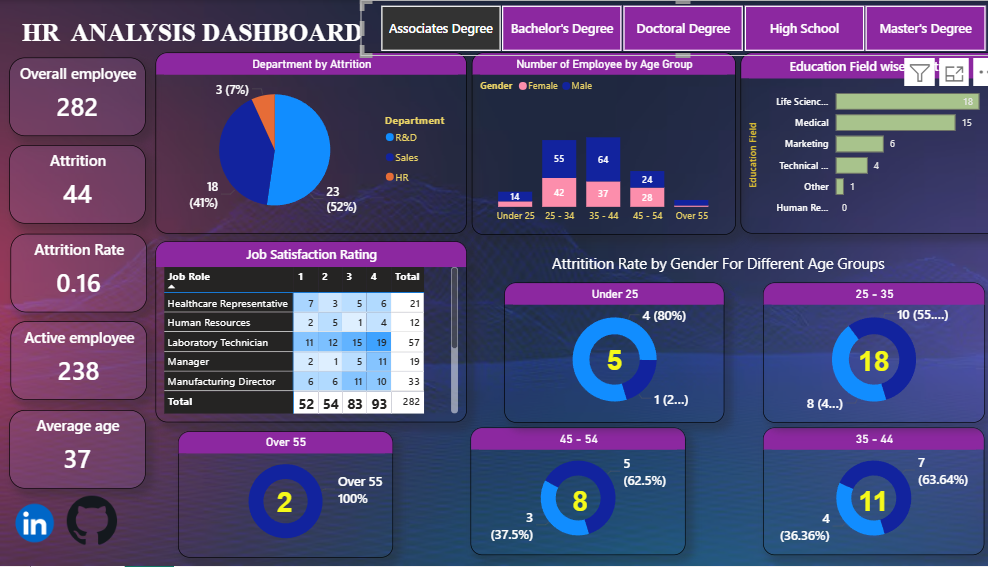

What the dashboard file says about the page in this screenshot:
{"tool":"powerbi","page":{"name":"Page 1","canvas":[1280,720],"ordinal":0},"visuals":[{"type":"card","title":"Overall employee","fields":{"Values":["Sum(HR data.Employee Count)"]},"box":[14.3,73.1,173.3,100],"z":0},{"type":"card","title":"Attrition","fields":{"Values":["Sum(HR data.Attition count)"]},"box":[14.3,185.2,173.3,100],"z":1000},{"type":"card","title":"Attrition Rate","fields":{"Values":["HR data.attrition rate"]},"box":[15.9,297.3,173.3,100],"z":2000},{"type":"card","title":"Active employee","fields":{"Values":["HR data.New employees"]},"box":[15.9,409.4,173.3,100],"z":3000},{"type":"card","title":"Average age","fields":{"Values":["Avg(HR data.Age)"]},"box":[14.3,521.4,173.2,100],"z":4000},{"type":"textbox","box":[25.4,17.5,453.2,66.8],"z":5000},{"type":"pieChart","title":"Department by Attrition","fields":{"Category":["HR data.Department"],"Y":["Sum(HR data.Attition count)"]},"box":[200.4,66.8,395.9,230.6],"z":6000},{"type":"columnChart","title":"Number of Employee by Age Group","fields":{"Category":["HR data.CF_age band"],"Y":["Sum(HR data.Employee Count)"],"Series":["HR data.Gender"]},"box":[602.5,66.1,335.7,232.1],"z":7000},{"type":"pivotTable","title":"Job Satisfaction Rating","fields":{"Rows":["HR data.Job Role"],"Columns":["HR data.Job Satisfaction"],"Values":["Sum(HR data.Employee Count)"]},"box":[200.4,306.9,395.9,230.6],"z":8000},{"type":"barChart","title":"Education Field wise Attrition","fields":{"Category":["HR data.Education Field"],"Y":["Sum(HR data.Attition count)"]},"box":[944.5,66.8,335.5,230.6],"z":9000},{"type":"donutChart","title":"35 - 44","fields":{"Category":["HR data.Gender"],"Y":["Sum(HR data.Attition count)"],"Series":["HR data.CF_age band"]},"box":[973.2,543.8,281.5,162.2],"z":10000},{"type":"textbox","box":[699.7,318,472.3,38.2],"z":11000},{"type":"donutChart","title":"45 - 54","fields":{"Category":["HR data.Gender"],"Y":["Sum(HR data.Attition count)"],"Series":["HR data.CF_age band"]},"box":[600.7,543.8,273.5,162.2],"z":12000},{"type":"donutChart","title":"25 - 35","fields":{"Category":["HR data.Gender"],"Y":["Sum(HR data.Attition count)"],"Series":["HR data.CF_age band"]},"box":[973.2,358.9,282.1,178.6],"z":13000},{"type":"donutChart","title":"Over 55","fields":{"Category":["HR data.Gender"],"Y":["Sum(HR data.Attition count)"],"Series":["HR data.CF_age band"]},"box":[228.6,548.2,273.2,160.7],"z":14000},{"type":"donutChart","title":"Under 25","fields":{"Category":["HR data.Gender"],"Y":["Sum(HR data.Attition count)"],"Series":["HR data.CF_age band"]},"box":[644.6,358.9,280.4,178.6],"z":15000},{"type":"slicer","fields":{"Values":["HR data.Education"]},"box":[461.1,0,818.9,71.6],"z":16000},{"type":"advanceCardE03760C5AB684758B56AA29F9E6C257B","fields":{"mainMeasure":["Sum(HR data.Attition count)"]},"box":[741.1,423.2,87.5,71.4],"z":17000},{"type":"advanceCardE03760C5AB684758B56AA29F9E6C257B","fields":{"mainMeasure":["Sum(HR data.Attition count)"]},"box":[1026.8,557.1,173.2,162.5],"z":18000},{"type":"advanceCardE03760C5AB684758B56AA29F9E6C257B","fields":{"mainMeasure":["Sum(HR data.Attition count)"]},"box":[653.6,557.1,175,162.5],"z":19000},{"type":"advanceCardE03760C5AB684758B56AA29F9E6C257B","fields":{"mainMeasure":["Sum(HR data.Attition count)"]},"box":[1071.4,423.2,85.7,73.2],"z":20000},{"type":"image","box":[14.3,619.6,65,90],"z":21000},{"type":"image","box":[87.5,625,64.3,75],"z":22000},{"type":"advanceCardE03760C5AB684758B56AA29F9E6C257B","fields":{"mainMeasure":["Sum(HR data.Attition count)"]},"box":[300.9,587.8,128.3,102.6],"z":23000}]}

Visuals, with their boxes in screenshot pixels (x1, y1, x2, y2), scaled from the page's 1280x720 canvas onto the 988x567 screenshot:
"Overall employee" card: BBox(11, 58, 145, 136)
"Attrition" card: BBox(11, 146, 145, 225)
"Attrition Rate" card: BBox(12, 234, 146, 313)
"Active employee" card: BBox(12, 322, 146, 401)
"Average age" card: BBox(11, 411, 145, 489)
textbox: BBox(20, 14, 369, 66)
"Department by Attrition" pieChart: BBox(155, 53, 460, 234)
"Number of Employee by Age Group" columnChart: BBox(465, 52, 724, 235)
"Job Satisfaction Rating" pivotTable: BBox(155, 242, 460, 423)
"Education Field wise Attrition" barChart: BBox(729, 53, 987, 234)
"35 - 44" donutChart: BBox(751, 428, 968, 556)
textbox: BBox(540, 250, 905, 281)
"45 - 54" donutChart: BBox(464, 428, 675, 556)
"25 - 35" donutChart: BBox(751, 283, 969, 423)
"Over 55" donutChart: BBox(176, 432, 387, 558)
"Under 25" donutChart: BBox(498, 283, 714, 423)
slicer - HR data.Education: BBox(356, 0, 987, 56)
advanceCardE03760C5AB684758B56AA29F9E6C257B - Sum(HR data.Attition count): BBox(572, 333, 640, 389)
advanceCardE03760C5AB684758B56AA29F9E6C257B - Sum(HR data.Attition count): BBox(793, 439, 926, 566)
advanceCardE03760C5AB684758B56AA29F9E6C257B - Sum(HR data.Attition count): BBox(504, 439, 640, 566)
advanceCardE03760C5AB684758B56AA29F9E6C257B - Sum(HR data.Attition count): BBox(827, 333, 893, 391)
image: BBox(11, 488, 61, 559)
image: BBox(68, 492, 117, 551)
advanceCardE03760C5AB684758B56AA29F9E6C257B - Sum(HR data.Attition count): BBox(232, 463, 331, 544)
